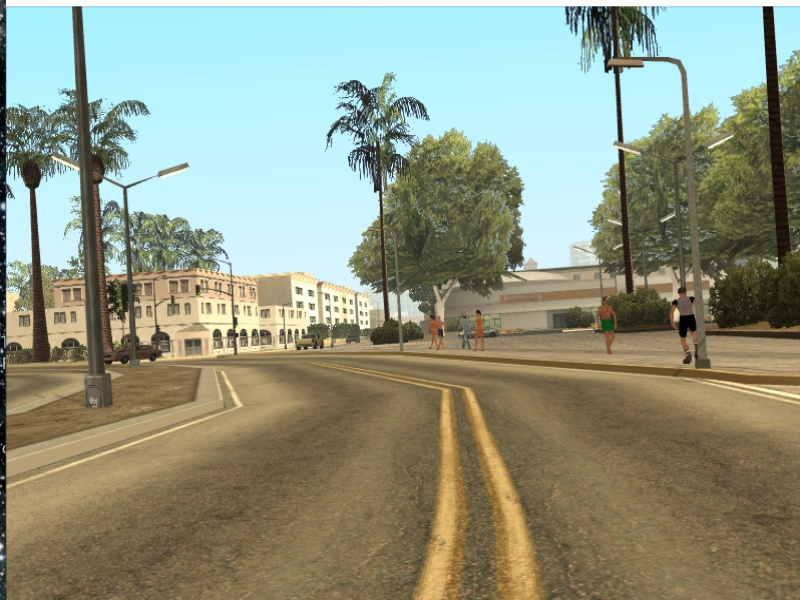person: (668, 288, 704, 366), (595, 297, 622, 355), (474, 311, 489, 350), (457, 314, 472, 349), (435, 314, 445, 351)
pole: (61, 5, 125, 408), (677, 64, 725, 370), (122, 184, 144, 367), (390, 232, 409, 351), (227, 262, 242, 357)
tree: (611, 72, 640, 291), (22, 184, 51, 362), (374, 175, 393, 325)
vehicle: (293, 331, 325, 354)
